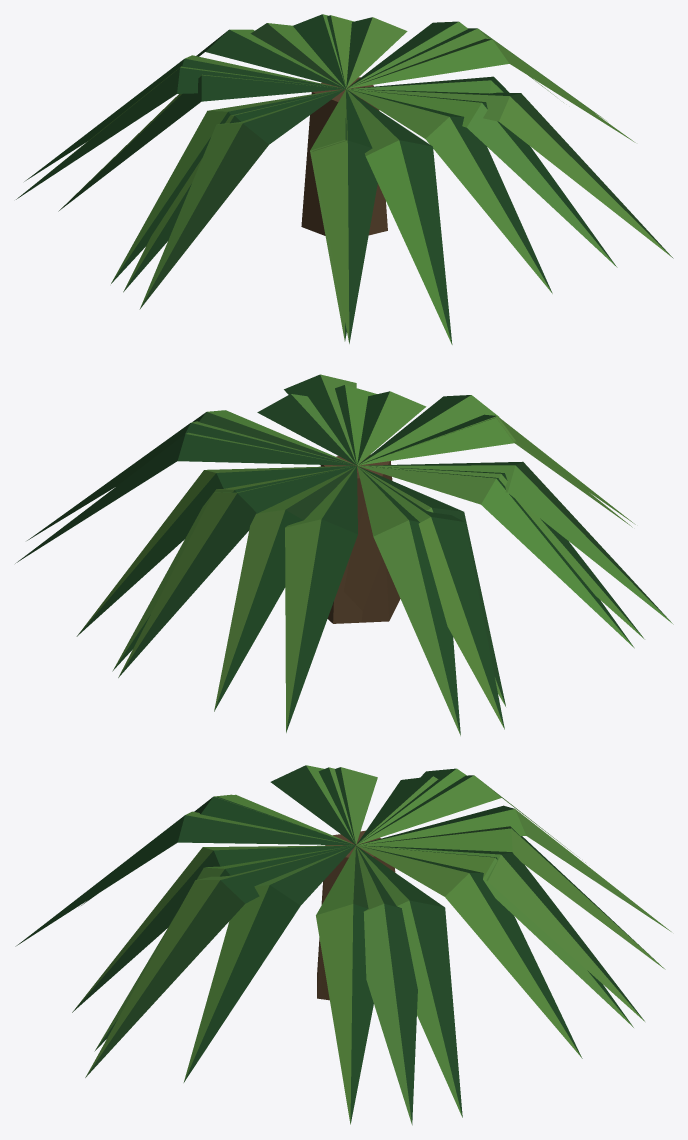
File: cycad.glb
3 renders of one model, top to bottom at view 1: azimuth 30°, elevation 25°; view 2: azimuth 150°, elevation 25°; view 3: azimuth 270°, elevation 25°, orthographic. The views are drawn at different scales.
Visible parts, largest first — view 1: cycad-b, cycad-a, cycad-c; view 2: cycad-c, cycad-a, cycad-b; view 3: cycad-b, cycad-c, cycad-a.
Part boxes in pixels (x1,y1,x2,y2): cycad-b: [58, 17, 635, 344]; cycad-a: [24, 14, 673, 343]; cycad-c: [16, 15, 563, 341]; cycad-c: [15, 391, 644, 732]; cycad-a: [27, 374, 635, 735]; cycad-b: [76, 385, 673, 711]; cycad-b: [15, 765, 665, 1124]; cycad-c: [72, 767, 671, 1117]; cycad-a: [85, 767, 644, 1125].
Bounding box in the file's own units: 0.7503 × 0.197 × 0.747.
